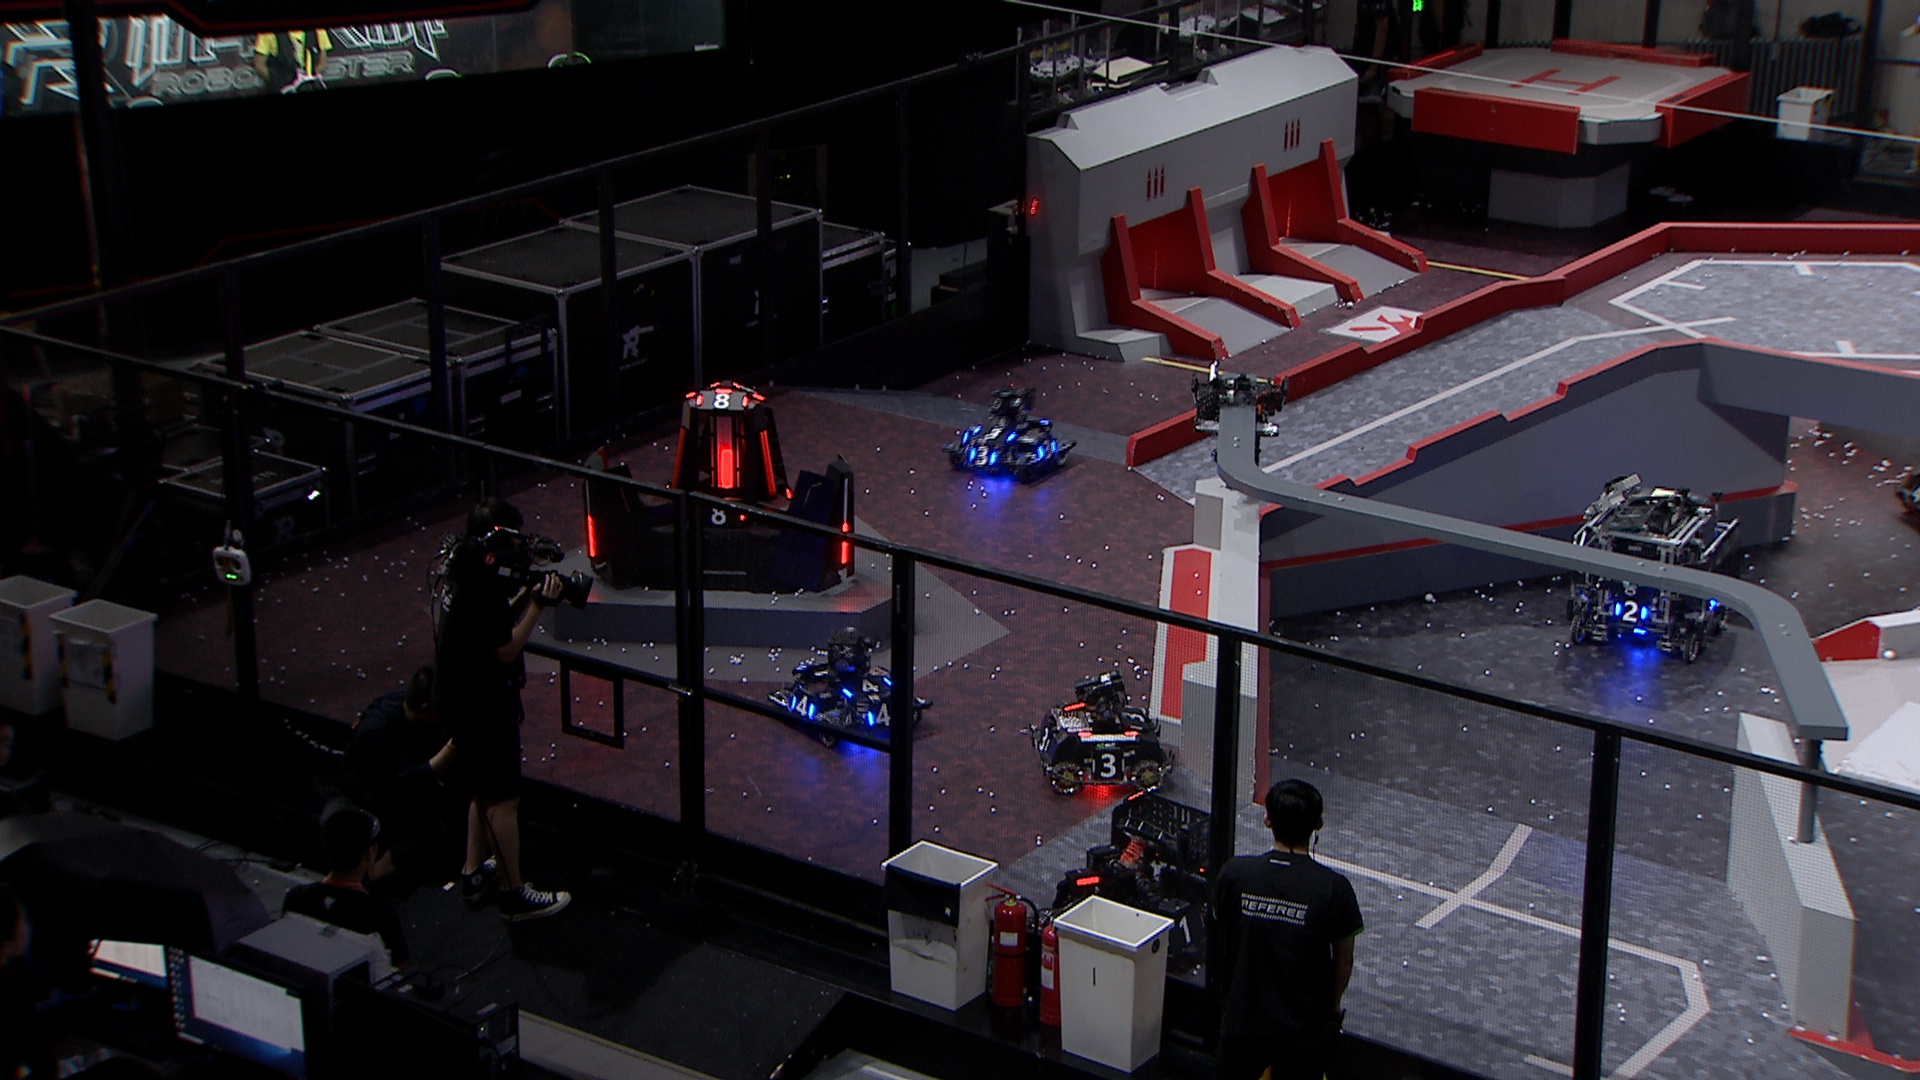armor: (1160, 913, 1204, 948), (695, 389, 746, 410), (760, 429, 775, 496), (844, 674, 887, 698), (698, 502, 742, 524), (671, 425, 684, 493), (1091, 756, 1127, 779), (716, 446, 736, 489), (787, 694, 816, 721), (973, 425, 1011, 443), (865, 702, 893, 727), (1125, 702, 1149, 731), (1614, 603, 1648, 622), (967, 447, 1001, 467), (837, 520, 851, 566), (585, 510, 597, 560), (1035, 436, 1058, 462), (1036, 723, 1054, 752), (1903, 483, 1920, 501)
base: (578, 376, 856, 595)
car: (1040, 793, 1240, 975), (1564, 473, 1745, 661), (766, 622, 934, 746), (1026, 669, 1178, 794), (944, 380, 1072, 487), (1888, 448, 1920, 535)
watcher: (1189, 357, 1292, 472)
